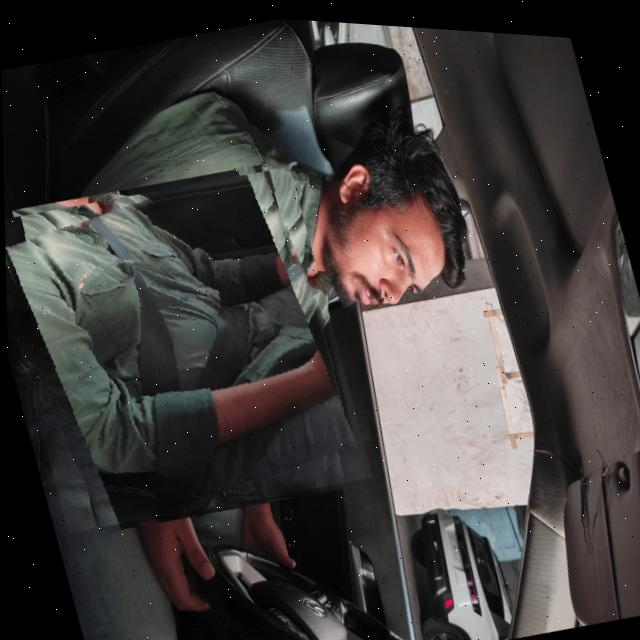seatbelt: (3, 147, 370, 548)
